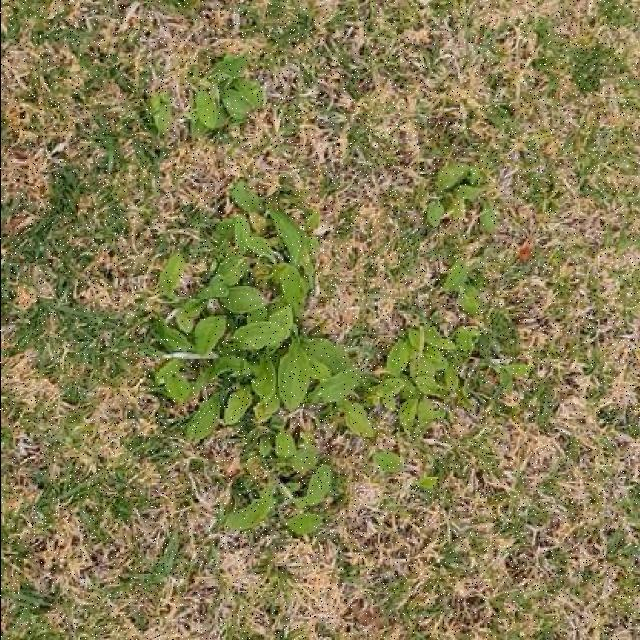weed: (150, 178, 477, 537), (189, 54, 263, 132)
